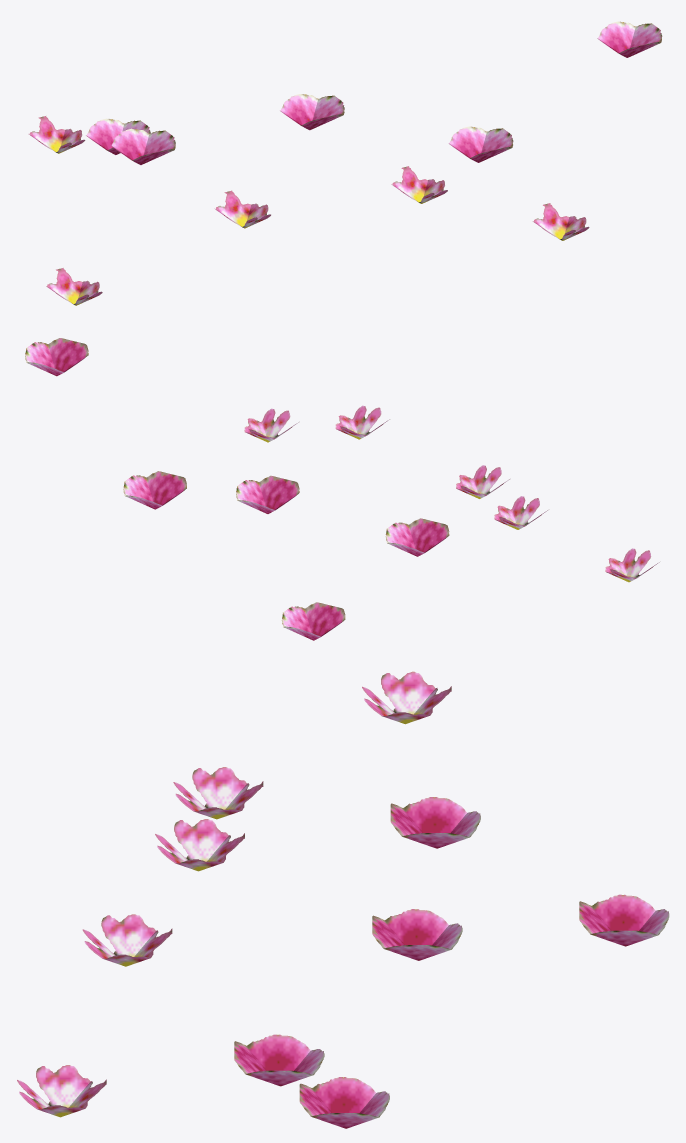
Rendered from xiaohua4.fbx.
3 renders of one model, top to bottom at view 1: azimuth 30°, elevation 25°; view 2: azimuth 150°, elevation 25°; view 3: azimuth 270°, elevation 25°, orthographic. The views are drawn at different scales.
Parts seen in each view (by area): view 1: xiaohua4; view 2: xiaohua4; view 3: xiaohua4.
Boxes of the visible parts, left/top/right/bottom form: xiaohua4: left=28, top=21, right=662, bottom=305; xiaohua4: left=25, top=338, right=659, bottom=640; xiaohua4: left=17, top=671, right=669, bottom=1128.
Size of the model in its own units: 315 by 55.58 by 201.
1 material, 1 textured.
